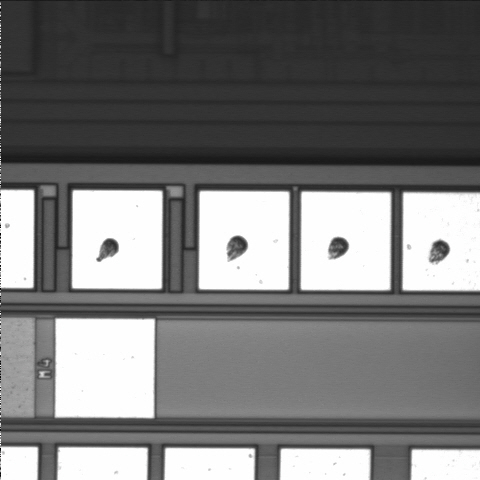pad: (55, 319, 155, 418), (72, 190, 162, 289), (199, 191, 289, 290), (301, 192, 391, 290)
